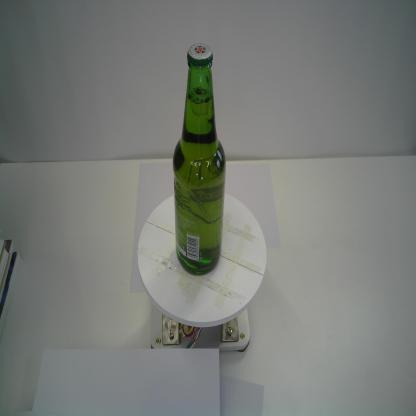Alcohol: (171, 42, 227, 278)
